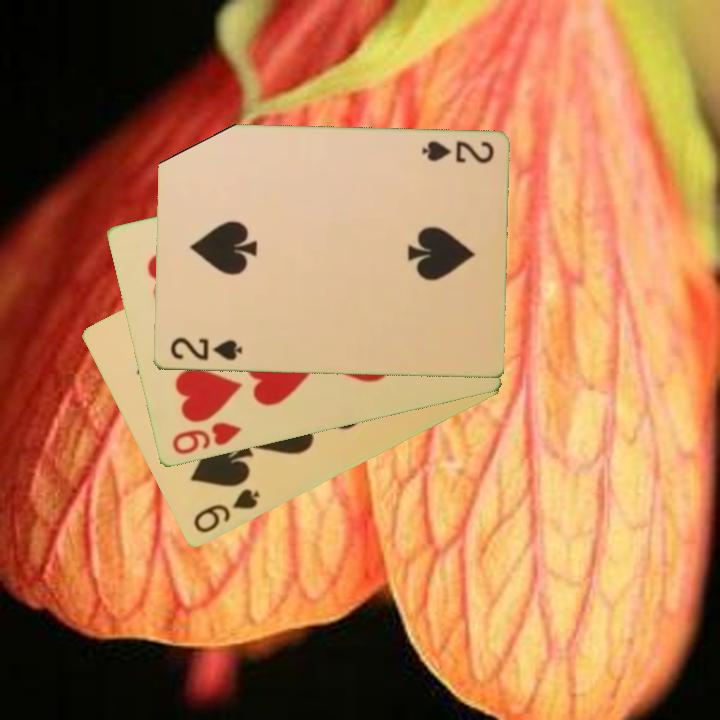2s: (418, 137, 497, 167), (167, 334, 245, 364)
9h: (168, 419, 245, 458)
9s: (189, 486, 263, 537)
